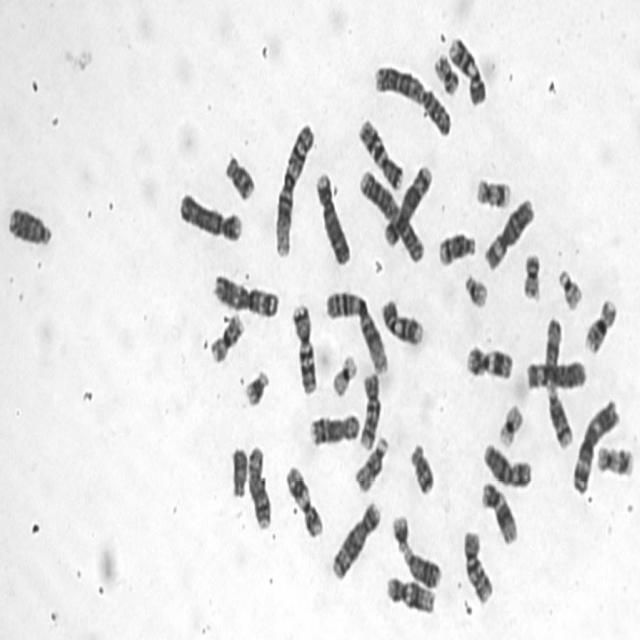A1: (274, 124, 314, 258), (326, 291, 389, 373)
A2: (358, 170, 425, 264), (374, 64, 453, 138)
A3: (572, 400, 620, 496), (213, 273, 280, 318)
B4: (176, 188, 243, 245), (315, 170, 353, 266)
B5: (384, 164, 433, 247), (330, 502, 381, 581)
C10: (462, 529, 497, 608), (357, 371, 382, 452)
C11: (284, 462, 324, 543), (463, 344, 516, 384)
C12: (481, 480, 518, 547), (386, 573, 437, 614)
C6: (482, 198, 536, 273), (524, 357, 588, 392)
C7: (357, 118, 405, 189), (289, 300, 320, 398)
C8: (248, 442, 273, 530), (308, 413, 361, 448)
C9: (448, 36, 488, 110), (379, 296, 425, 348)
D13: (5, 206, 54, 253), (403, 546, 444, 591)
D14: (545, 382, 574, 450), (436, 229, 478, 268)
D15: (353, 435, 389, 494), (543, 317, 563, 382)
E16: (207, 311, 247, 364), (584, 299, 618, 357)
E17: (475, 175, 512, 210), (597, 444, 635, 478)
E18: (223, 152, 258, 203), (408, 440, 437, 499)
F19: (496, 402, 526, 448), (331, 352, 357, 400)
F20: (433, 52, 461, 98), (521, 252, 541, 304)
G21: (242, 370, 272, 410), (392, 512, 411, 554)
G22: (557, 268, 584, 314), (462, 273, 491, 314)
X: (481, 440, 534, 490)
Y: (230, 447, 248, 500)
